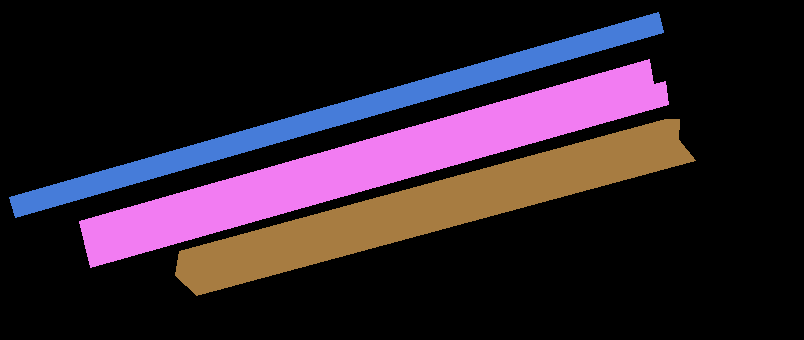parkingspot: (9, 12, 663, 217), (79, 59, 668, 267), (175, 119, 695, 295)
